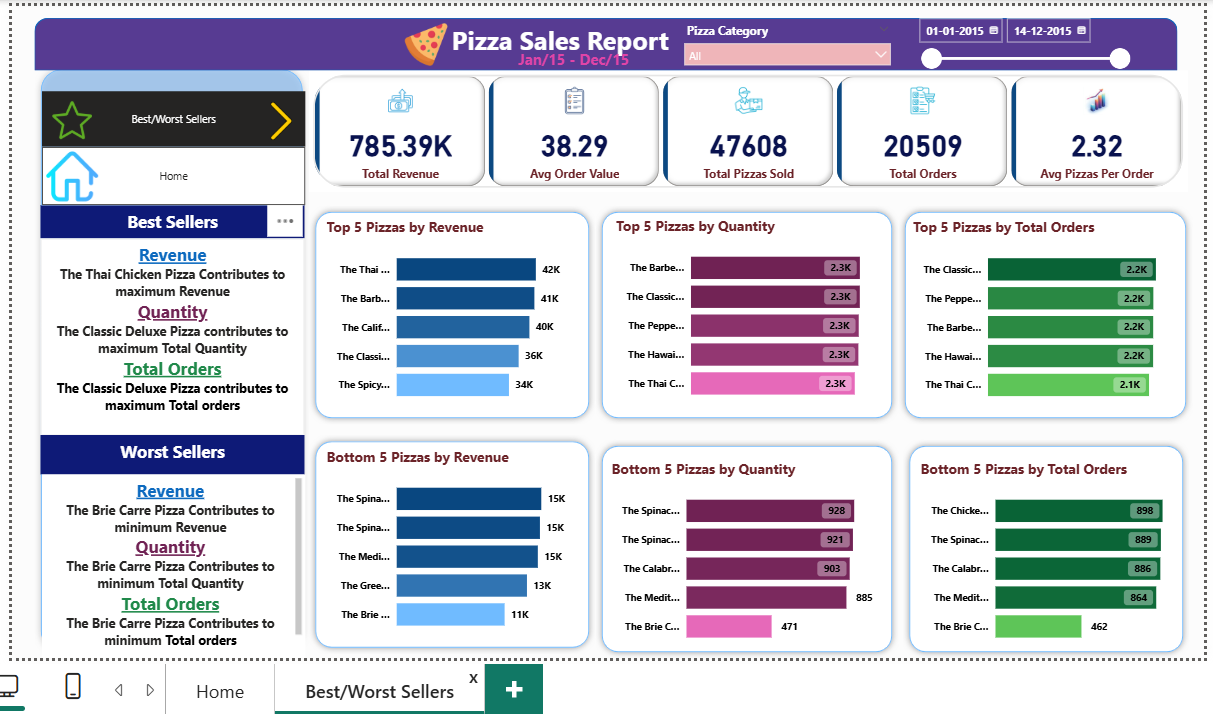

The page's visual inventory and layout, read from the dashboard file:
{"tool":"powerbi","page":{"name":"Best/Worst Sellers","canvas":[1500,820],"ordinal":1},"visuals":[{"type":"shape","box":[28.3,71.7,345.2,749],"z":0},{"type":"textbox","box":[36.8,589.3,331.5,231.8],"z":1000},{"type":"textbox","box":[35.8,250.9,332,41.5],"z":2000},{"type":"cardVisual","fields":{"Data":["pizza_sales.Total Revenue","pizza_sales.Avg Order Value","pizza_sales.Total Pizzas Sold","pizza_sales.Total Orders","pizza_sales.Avg Pizzas Per Order"]},"box":[373.5,81.1,1105.5,152.8],"z":3000},{"type":"shape","box":[28.3,15.1,1437.5,66],"z":4000},{"type":"textbox","box":[543.3,15.1,292.4,56.6],"z":5000},{"type":"textbox","box":[590.5,49.1,232,54.7],"z":6000},{"type":"image","box":[473.5,15.1,94.3,66],"z":7000},{"type":"shape","box":[373.5,250.9,360.3,275.4],"z":8000},{"type":"textbox","box":[35.8,292.4,332,247.1],"z":9000},{"type":"textbox","box":[35.8,539.6,332,49.1],"z":10000},{"type":"slicer","fields":{"Values":["pizza_sales.pizza_category"]},"box":[835.7,15.1,279.2,62.3],"z":11000},{"type":"slicer","fields":{"Values":["pizza_sales.order_date"]},"box":[1128.2,5.7,298.1,88.7],"z":12000},{"type":"shape","box":[1115,250.9,369.8,275.4],"z":13000},{"type":"shape","box":[733.9,250.9,381.1,275.4],"z":14000},{"type":"shape","box":[373.5,539.6,360.3,275.4],"z":15000},{"type":"shape","box":[1120.6,545.2,360.3,275.4],"z":16000},{"type":"shape","box":[733.9,545.2,381.1,275.4],"z":17000},{"type":"barChart","title":"Top 5 Pizzas by Revenue","fields":{"Category":["pizza_sales.pizza_name"],"Y":["pizza_sales.Total Revenue"]},"box":[390,266.5,318.5,244.8],"z":18000},{"type":"barChart","title":"Bottom 5 Pizzas by Revenue","fields":{"Category":["pizza_sales.pizza_name"],"Y":["pizza_sales.Total Revenue"]},"box":[390,554.7,318.5,244.8],"z":19000},{"type":"barChart","title":"Top 5 Pizzas by Quantity","fields":{"Category":["pizza_sales.pizza_name"],"Y":["pizza_sales.Total Pizzas Sold"]},"box":[754,264.3,342.3,244.8],"z":20000},{"type":"barChart","title":"Bottom 5 Pizzas by Quantity","fields":{"Category":["pizza_sales.pizza_name"],"Y":["pizza_sales.Total Pizzas Sold"]},"box":[749.6,569.8,342.3,244.8],"z":21000},{"type":"barChart","title":"Top 5 Pizzas by Total Orders","fields":{"Category":["pizza_sales.pizza_name"],"Y":["pizza_sales.Total Orders"]},"box":[1128.8,266.5,342.3,244.8],"z":22000},{"type":"barChart","title":"Bottom 5 Pizzas by Total Orders","fields":{"Category":["pizza_sales.pizza_name"],"Y":["pizza_sales.Total Orders"]},"box":[1137.5,569.8,342.3,244.8],"z":23000},{"type":"pageNavigator","box":[36.8,108.3,331.5,69.3],"z":24000},{"type":"pageNavigator","box":[36.8,177.7,331.5,73.7],"z":25000},{"type":"image","box":[309.8,110.5,58.5,67.2],"z":26000},{"type":"image","box":[36.8,160.3,75.8,108.3],"z":27000},{"type":"image","box":[45.5,112.7,60.7,60.7],"z":28000}]}

Visuals, with their boxes on the page's 1500x820 design canvas (x1, y1, x2, y2). These are canvas units, not pixel positions in the 1213x714 screenshot, which may show the page scaled, cropped or inside an application window:
shape: rect(28, 72, 374, 821)
textbox: rect(37, 589, 368, 821)
textbox: rect(36, 251, 368, 292)
cardVisual - pizza_sales.Total Revenue x pizza_sales.Avg Order Value: rect(374, 81, 1479, 234)
shape: rect(28, 15, 1466, 81)
textbox: rect(543, 15, 836, 72)
textbox: rect(590, 49, 822, 104)
image: rect(474, 15, 568, 81)
shape: rect(374, 251, 734, 526)
textbox: rect(36, 292, 368, 540)
textbox: rect(36, 540, 368, 589)
slicer - pizza_sales.pizza_category: rect(836, 15, 1115, 77)
slicer - pizza_sales.order_date: rect(1128, 6, 1426, 94)
shape: rect(1115, 251, 1485, 526)
shape: rect(734, 251, 1115, 526)
shape: rect(374, 540, 734, 815)
shape: rect(1121, 545, 1481, 821)
shape: rect(734, 545, 1115, 821)
"Top 5 Pizzas by Revenue" barChart: rect(390, 266, 708, 511)
"Bottom 5 Pizzas by Revenue" barChart: rect(390, 555, 708, 800)
"Top 5 Pizzas by Quantity" barChart: rect(754, 264, 1096, 509)
"Bottom 5 Pizzas by Quantity" barChart: rect(750, 570, 1092, 815)
"Top 5 Pizzas by Total Orders" barChart: rect(1129, 266, 1471, 511)
"Bottom 5 Pizzas by Total Orders" barChart: rect(1138, 570, 1480, 815)
pageNavigator: rect(37, 108, 368, 178)
pageNavigator: rect(37, 178, 368, 251)
image: rect(310, 110, 368, 178)
image: rect(37, 160, 113, 269)
image: rect(46, 113, 106, 173)
